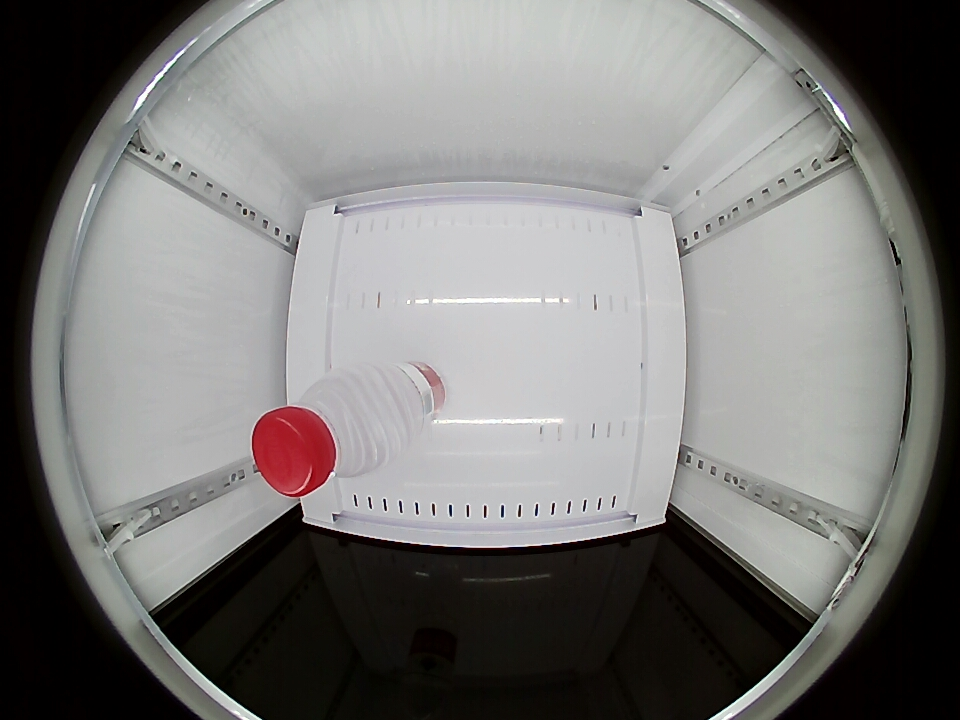nongfushanquan: (252, 369, 395, 497)
